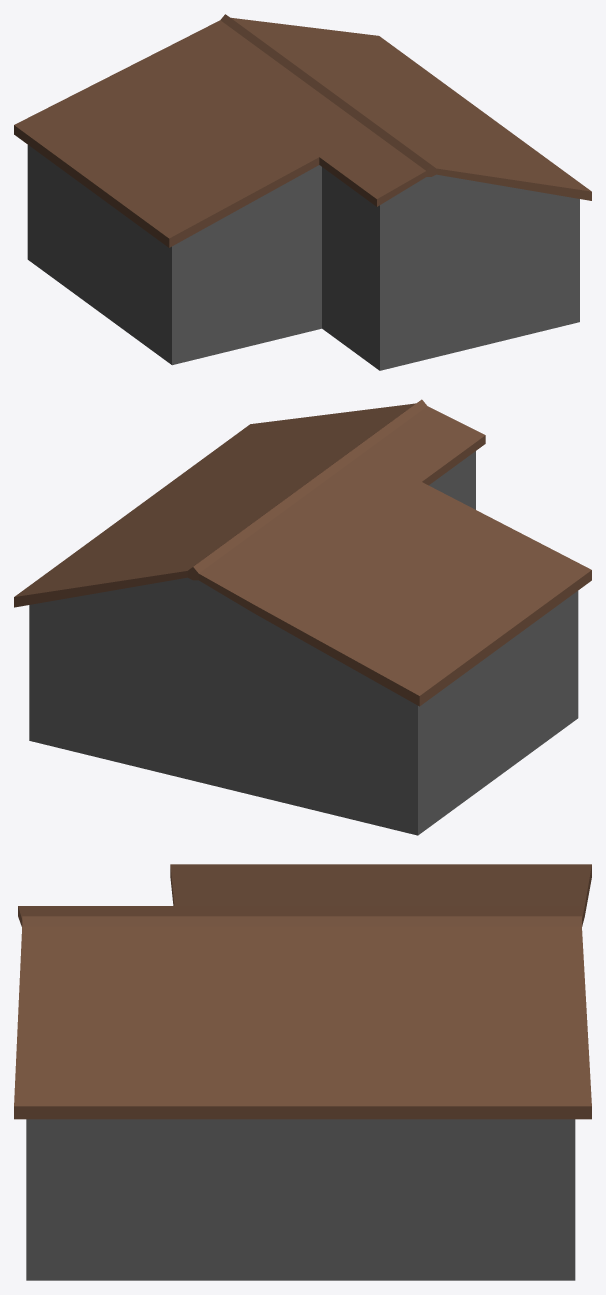
File: Room08.fbx
The picture shows the model from 3 angles, top to bottom: view 1: azimuth 30°, elevation 25°; view 2: azimuth 150°, elevation 25°; view 3: azimuth 270°, elevation 25°; orthographic projection. The views are drawn at different scales.
Visible parts, largest first — view 1: Room08; view 2: Room08; view 3: Room08.
Boxes of the visible parts, x1=… form: Room08: x1=14, y1=14, x2=591, y2=370; Room08: x1=14, y1=399, x2=591, y2=835; Room08: x1=14, y1=864, x2=591, y2=1280.
Size of the model in its own units: 730 by 373 by 737.
